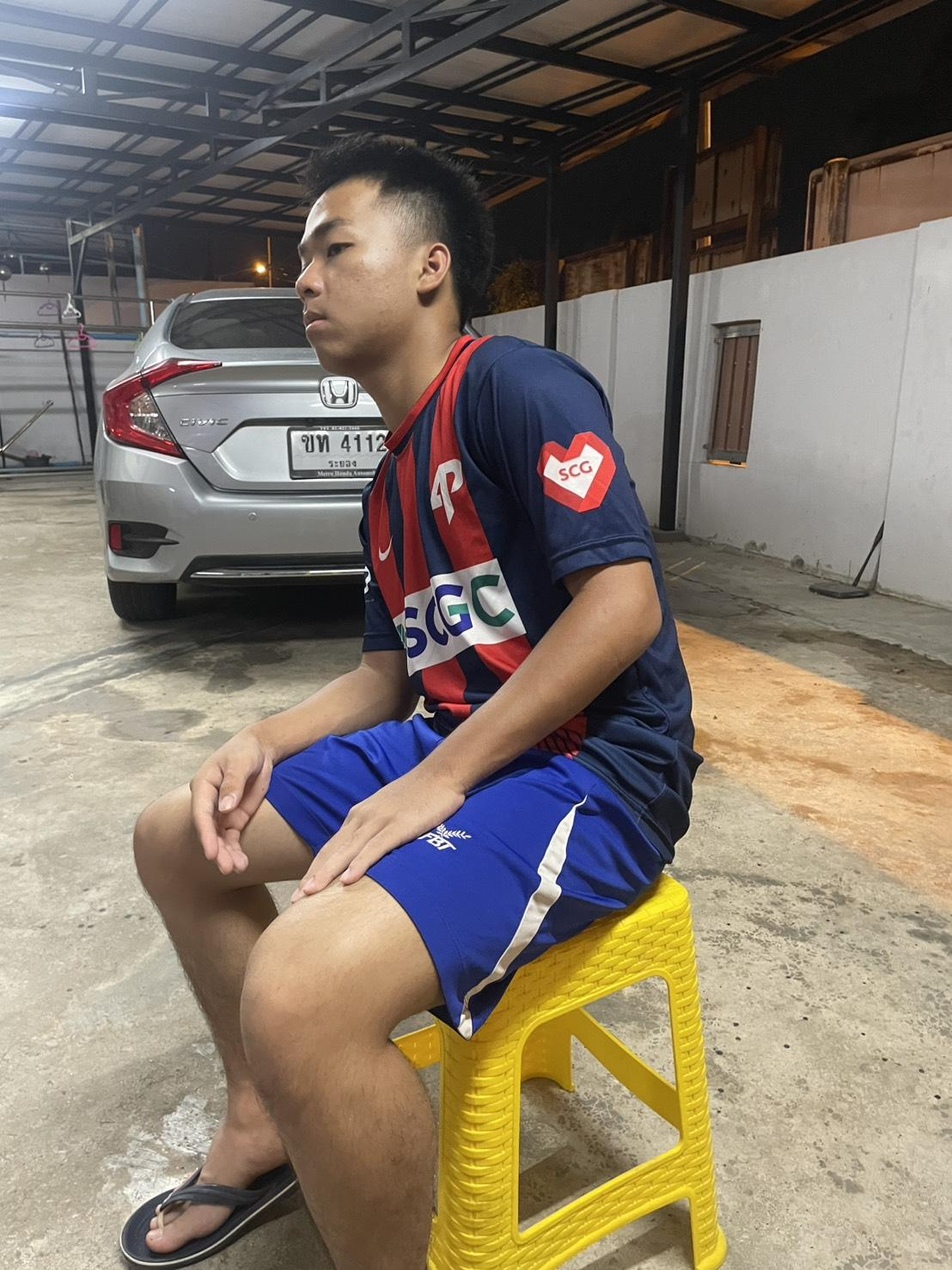BadPosture: (188, 138, 702, 842)
